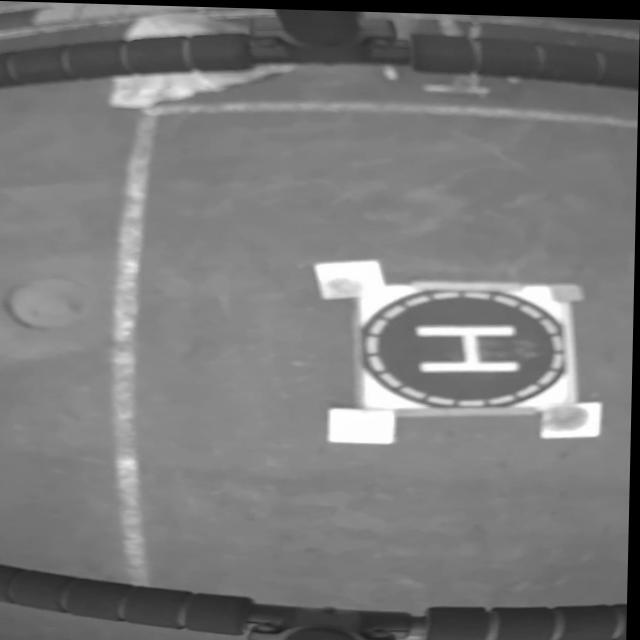Helipad: (416, 320, 524, 368)
